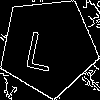L: (23, 21, 59, 71)
